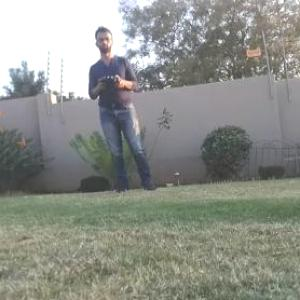follow: (86, 16, 163, 196)
